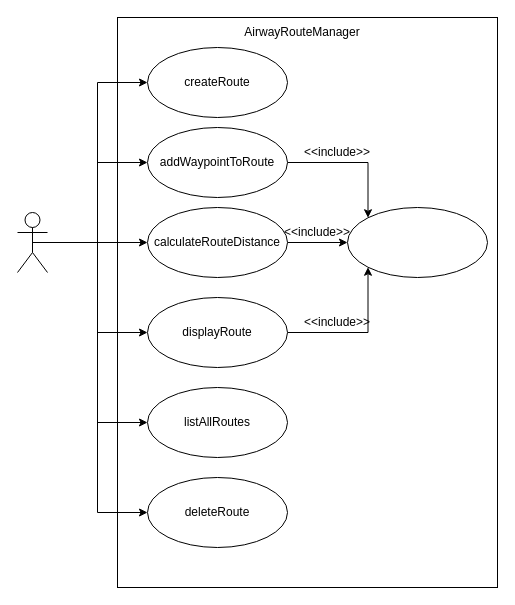
Some shapes in this 515 by 605 pixel diagram are drawn without their labels. Each missing label, with the centre of its shape:
"loadRoute" belongs at point 417,242.
"User" belongs at point 32,242.
